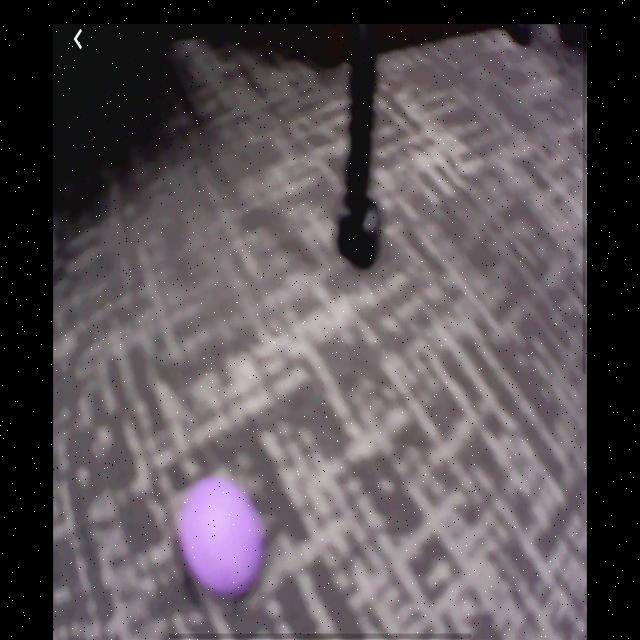ball: (175, 475, 266, 599)
